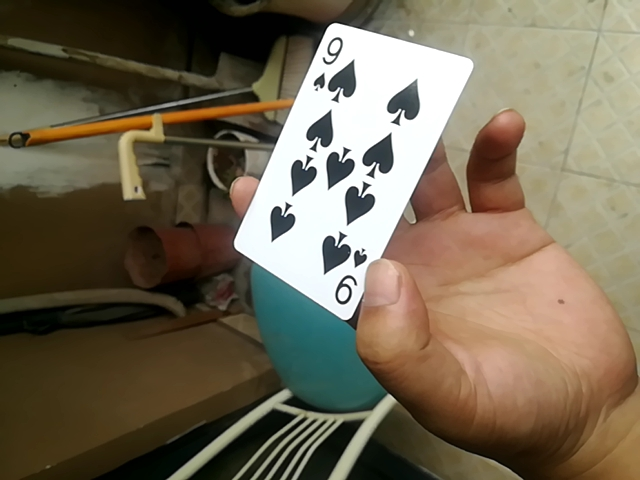ht 9: (226, 25, 475, 323)
